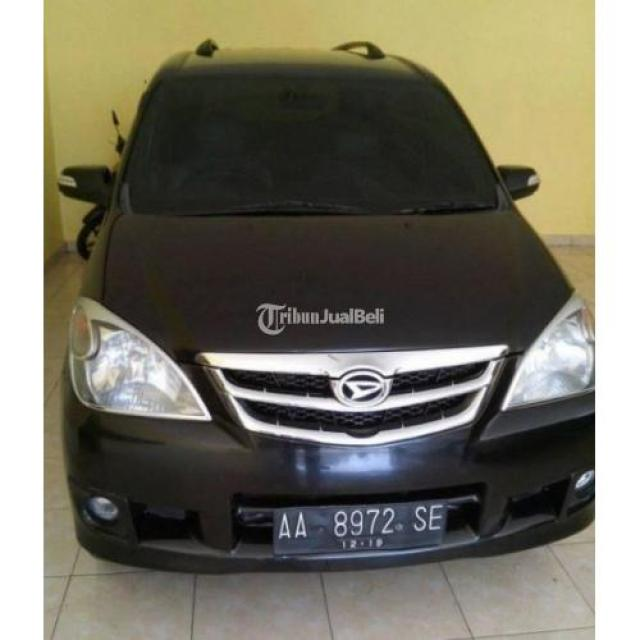plate: (278, 502, 445, 557)
